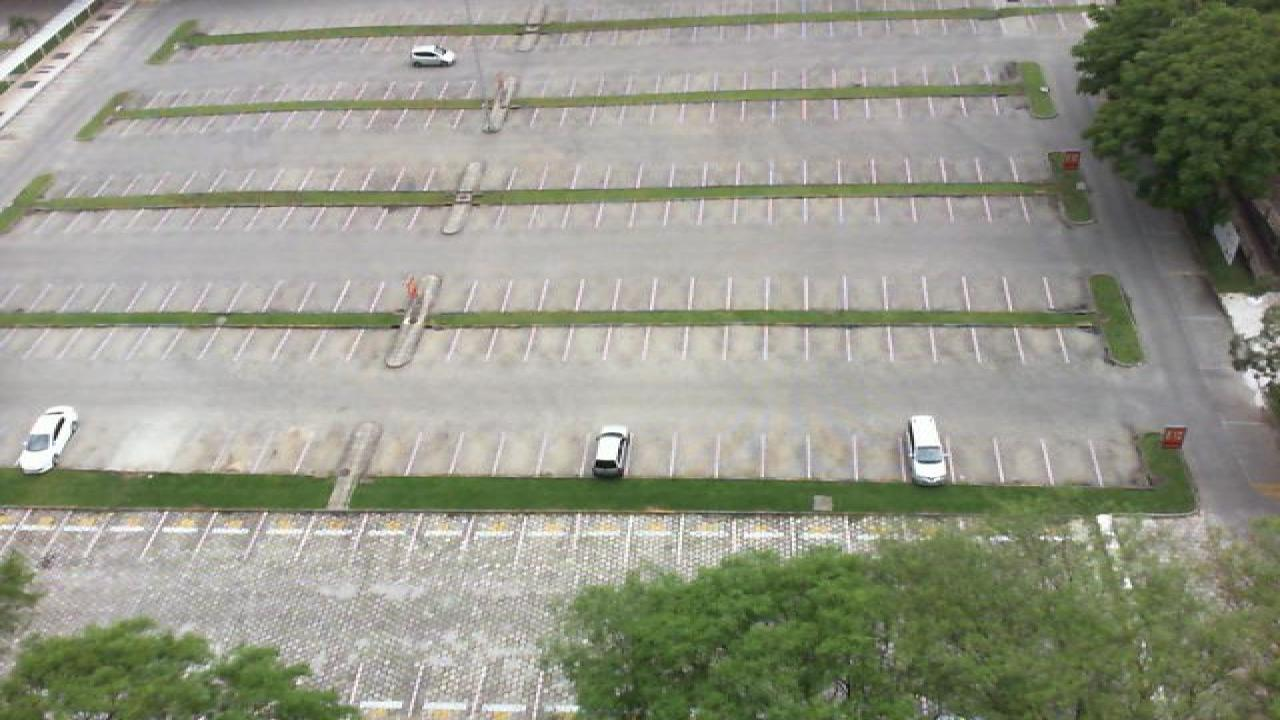Car: (16, 406, 78, 476), (902, 414, 954, 486), (588, 424, 630, 478), (410, 44, 458, 67)
